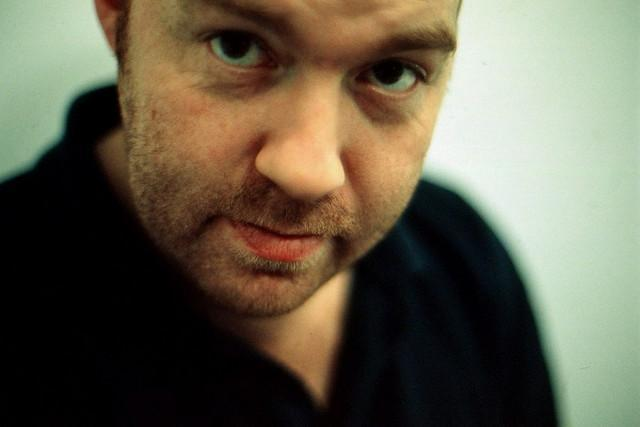Eyebags: (192, 51, 285, 100), (347, 84, 419, 125)
